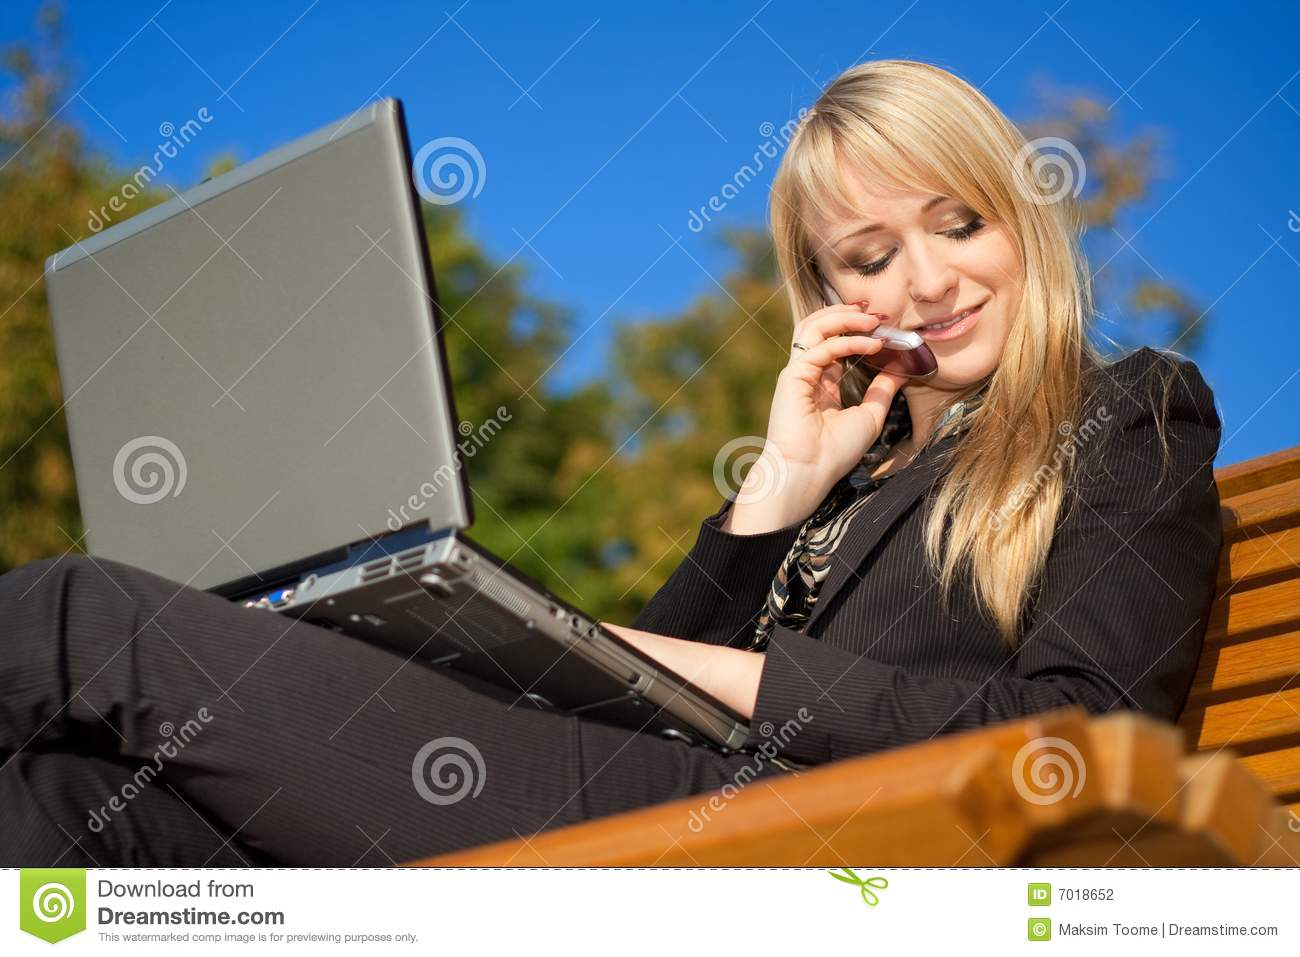phone: (802, 269, 939, 389)
talk: (760, 180, 1013, 487)
